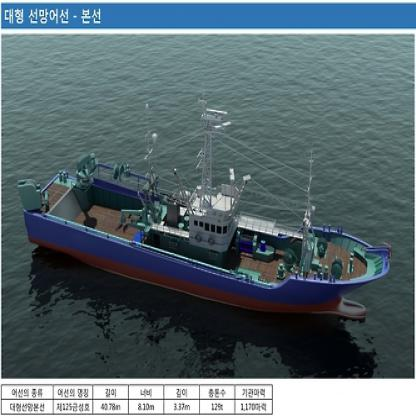fish-b: (12, 92, 397, 322)
